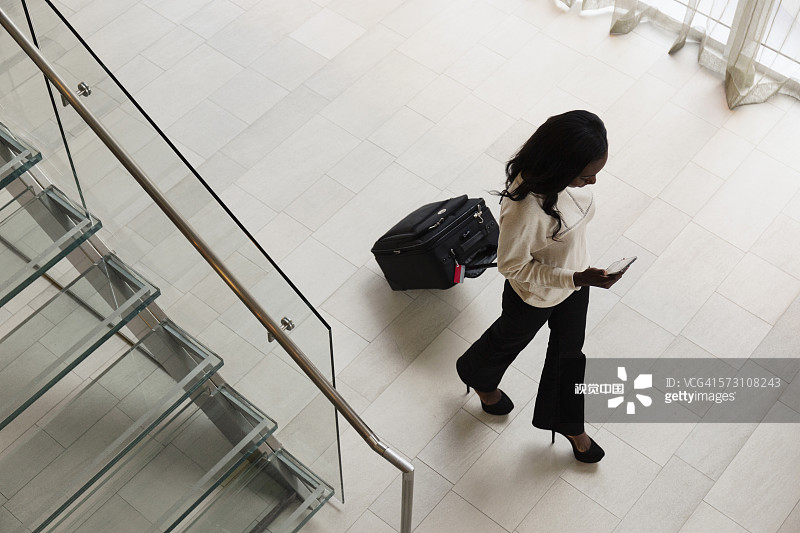reading: (580, 251, 643, 290)
